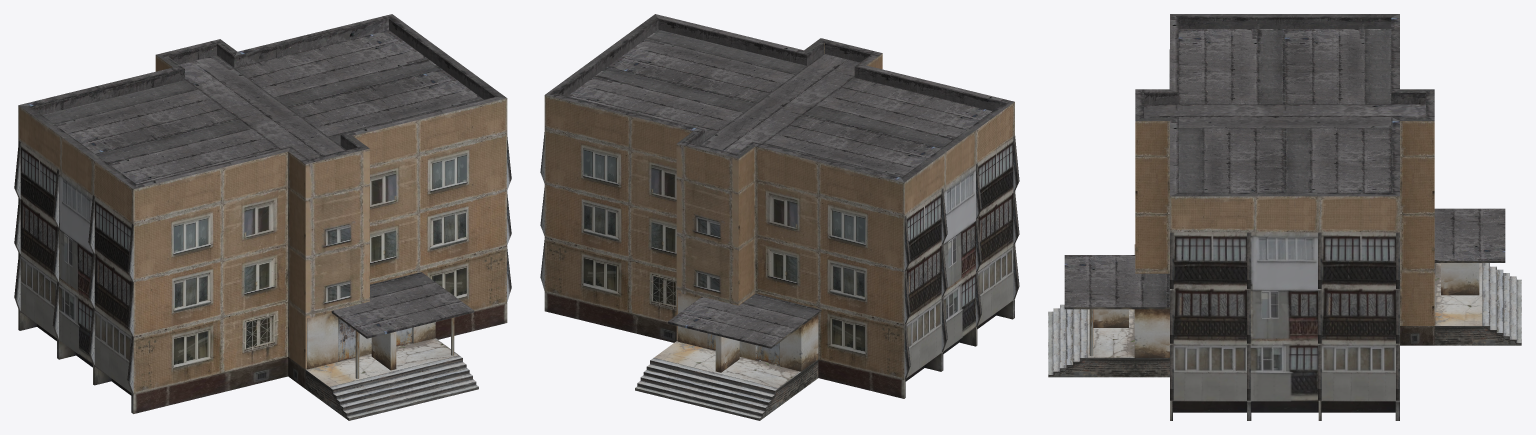
File: panel_house_3f.glb
3 renders of one model, left to right at view 1: azimuth 30°, elevation 25°; view 2: azimuth 150°, elevation 25°; view 3: azimuth 270°, elevation 25°, orthographic. The views are drawn at different scales.
Parts seen in each view (by area): view 1: Cube; view 2: Cube; view 3: Cube.
Boxes of the visible parts, left/top/right/bottom form: Cube: left=14, top=14, right=511, bottom=420; Cube: left=540, top=14, right=1019, bottom=420; Cube: left=1048, top=14, right=1521, bottom=420.
Size of the model in its own units: 17.82 by 10 by 19.09.
Materials: 1 (1 with a texture image).
